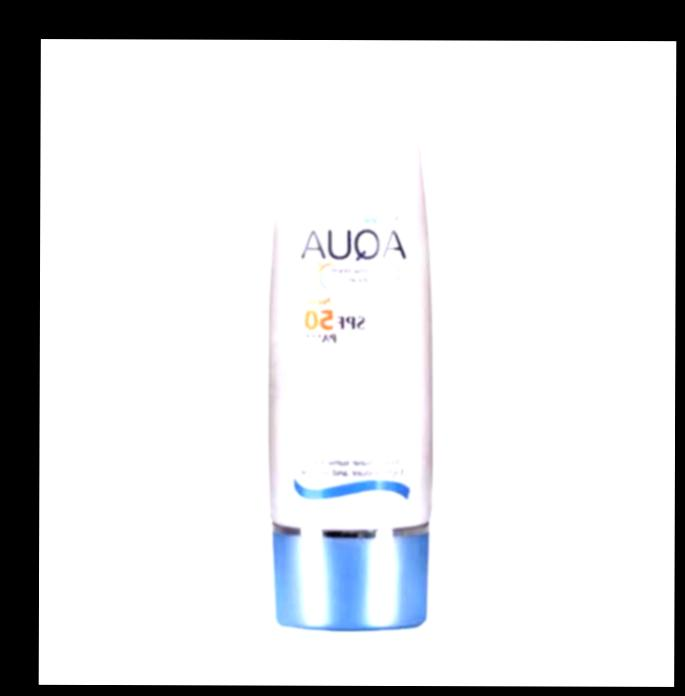cosmetic: (266, 97, 433, 630)
